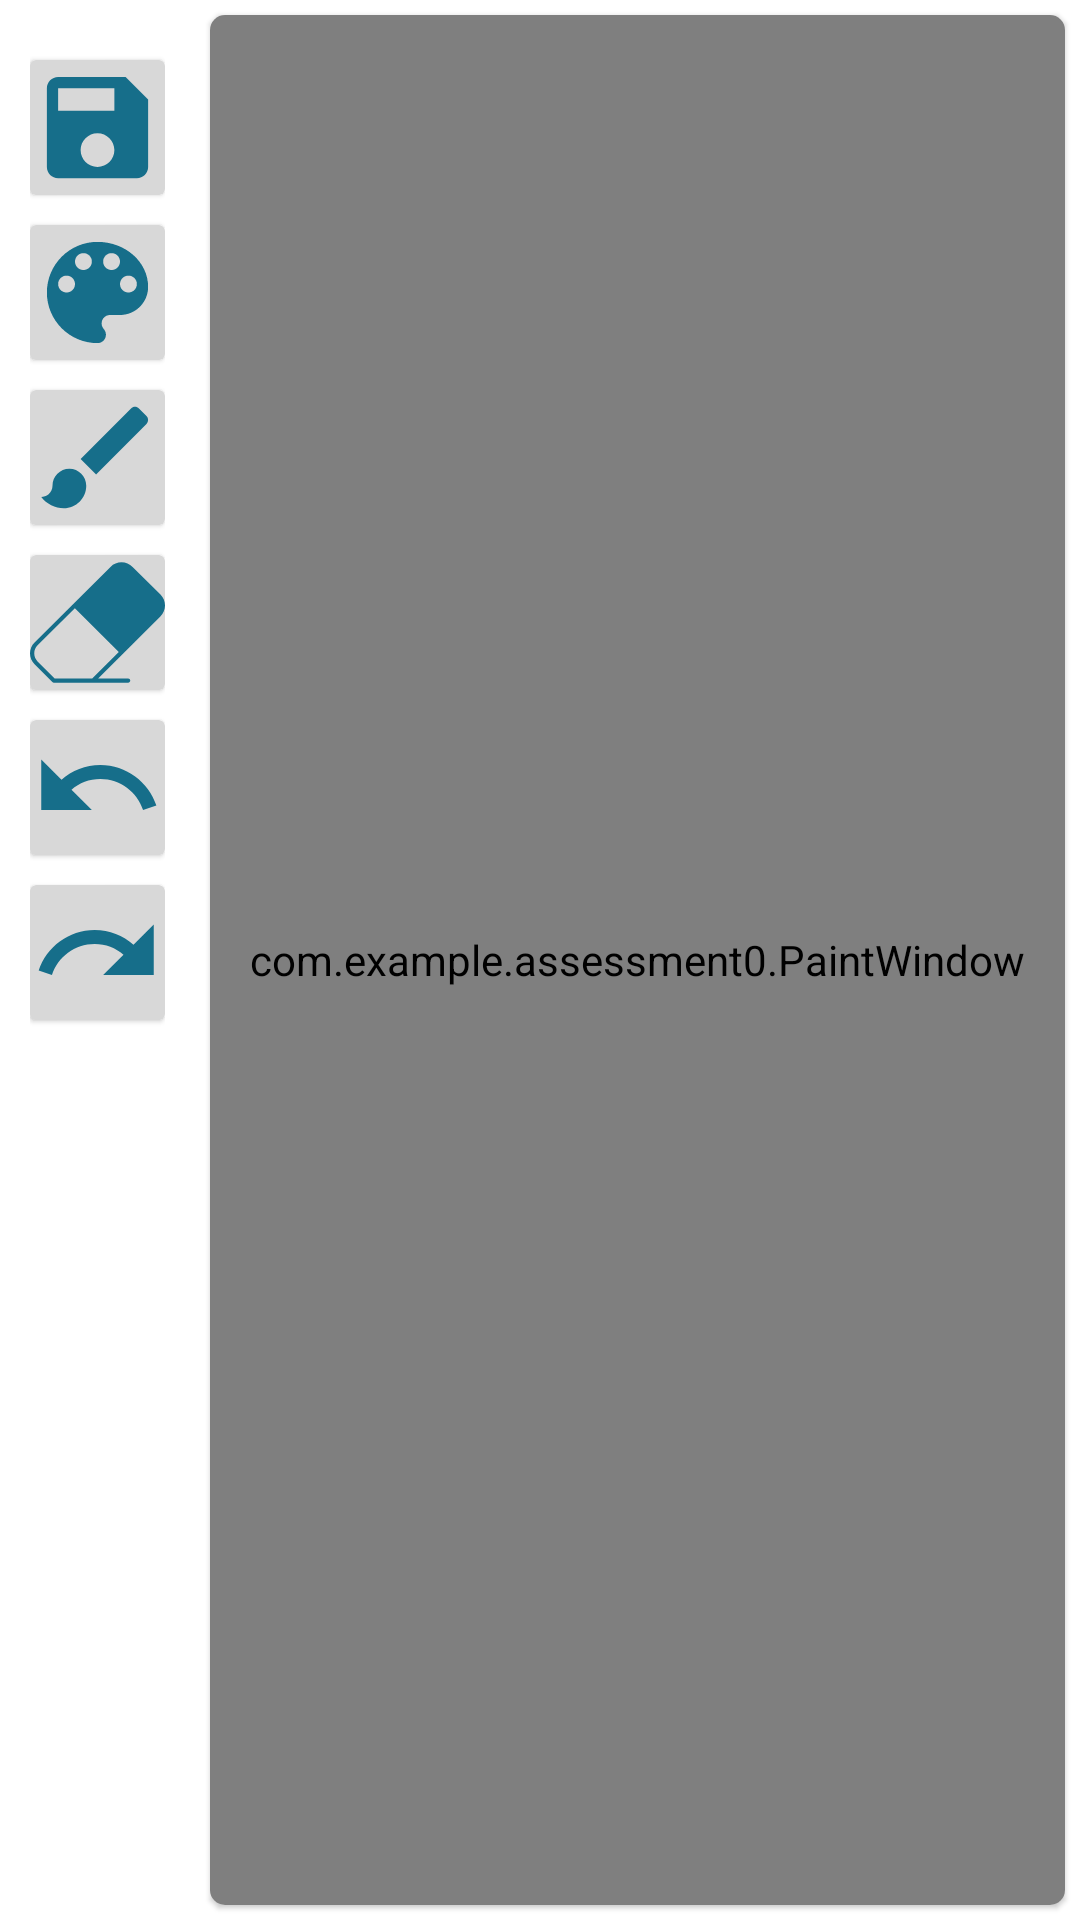

Icons on this 1080 x 1920 Android screen, each with the point to tap as (x=x, y=y):
brush: (x=97, y=457)
eraser: (x=97, y=622)
redo: (x=97, y=952)
save: (x=97, y=127)
undo: (x=97, y=787)
